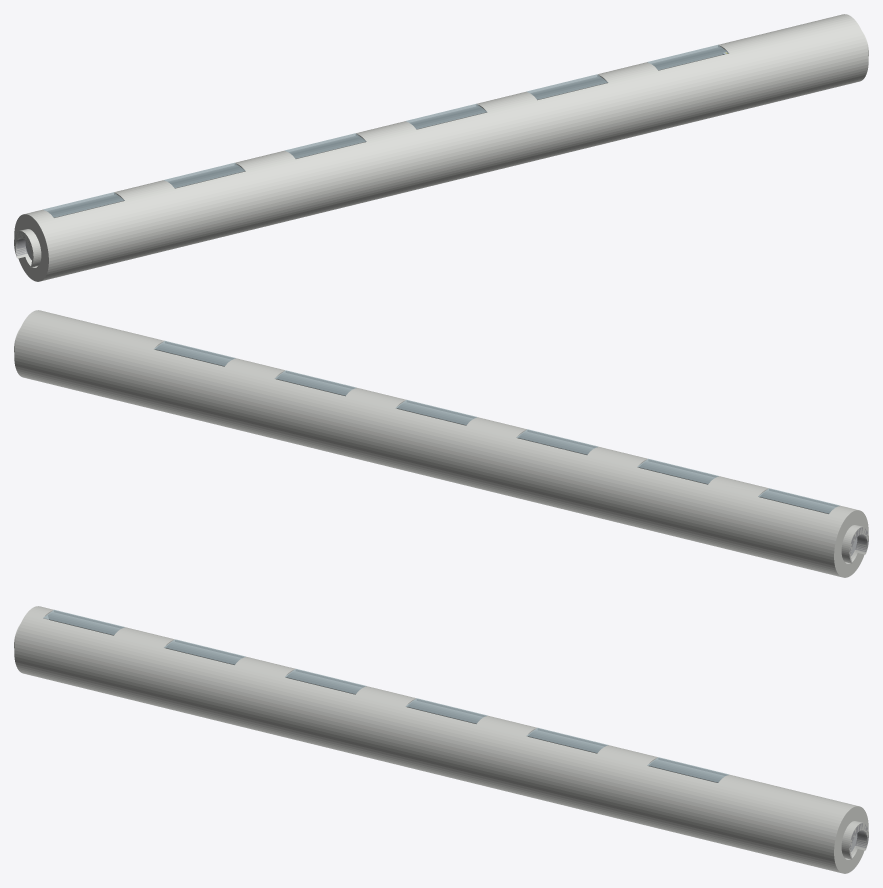
The model's file is station10_spoke_interior.glb.
3 renders of one model, top to bottom at view 1: azimuth 30°, elevation 25°; view 2: azimuth 150°, elevation 25°; view 3: azimuth 330°, elevation 25°, orthographic.
Visible parts, largest first — view 1: pressure_vessel, window_glass_inner; view 2: pressure_vessel, window_glass_inner; view 3: pressure_vessel, window_glass_inner.
Boxes of the visible parts, left/top/right/bottom form: pressure_vessel: left=14, top=14, right=868, bottom=281; window_glass_inner: left=43, top=45, right=728, bottom=217; pressure_vessel: left=14, top=310, right=868, bottom=577; window_glass_inner: left=154, top=341, right=839, bottom=513; pressure_vessel: left=14, top=606, right=868, bottom=873; window_glass_inner: left=43, top=609, right=728, bottom=782.
Bounding box in the file's own units: 20.74 × 1.49 × 1.49.
